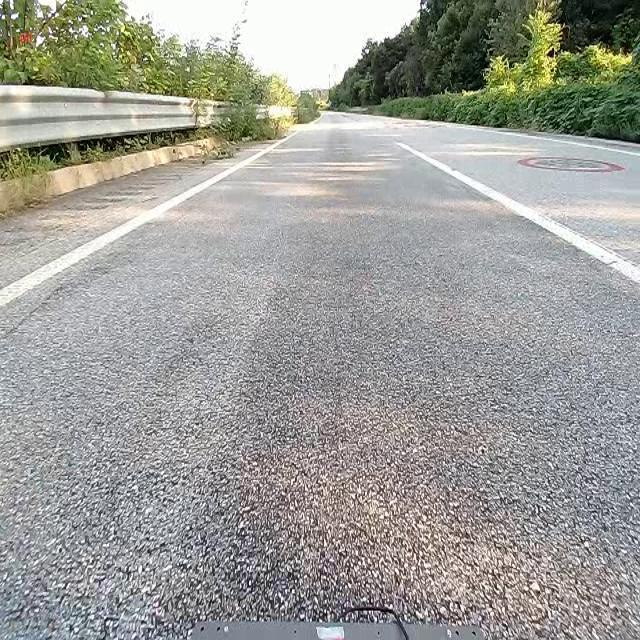Lane: (0, 115, 313, 310), (0, 131, 298, 308), (392, 132, 640, 287), (397, 142, 639, 284)
